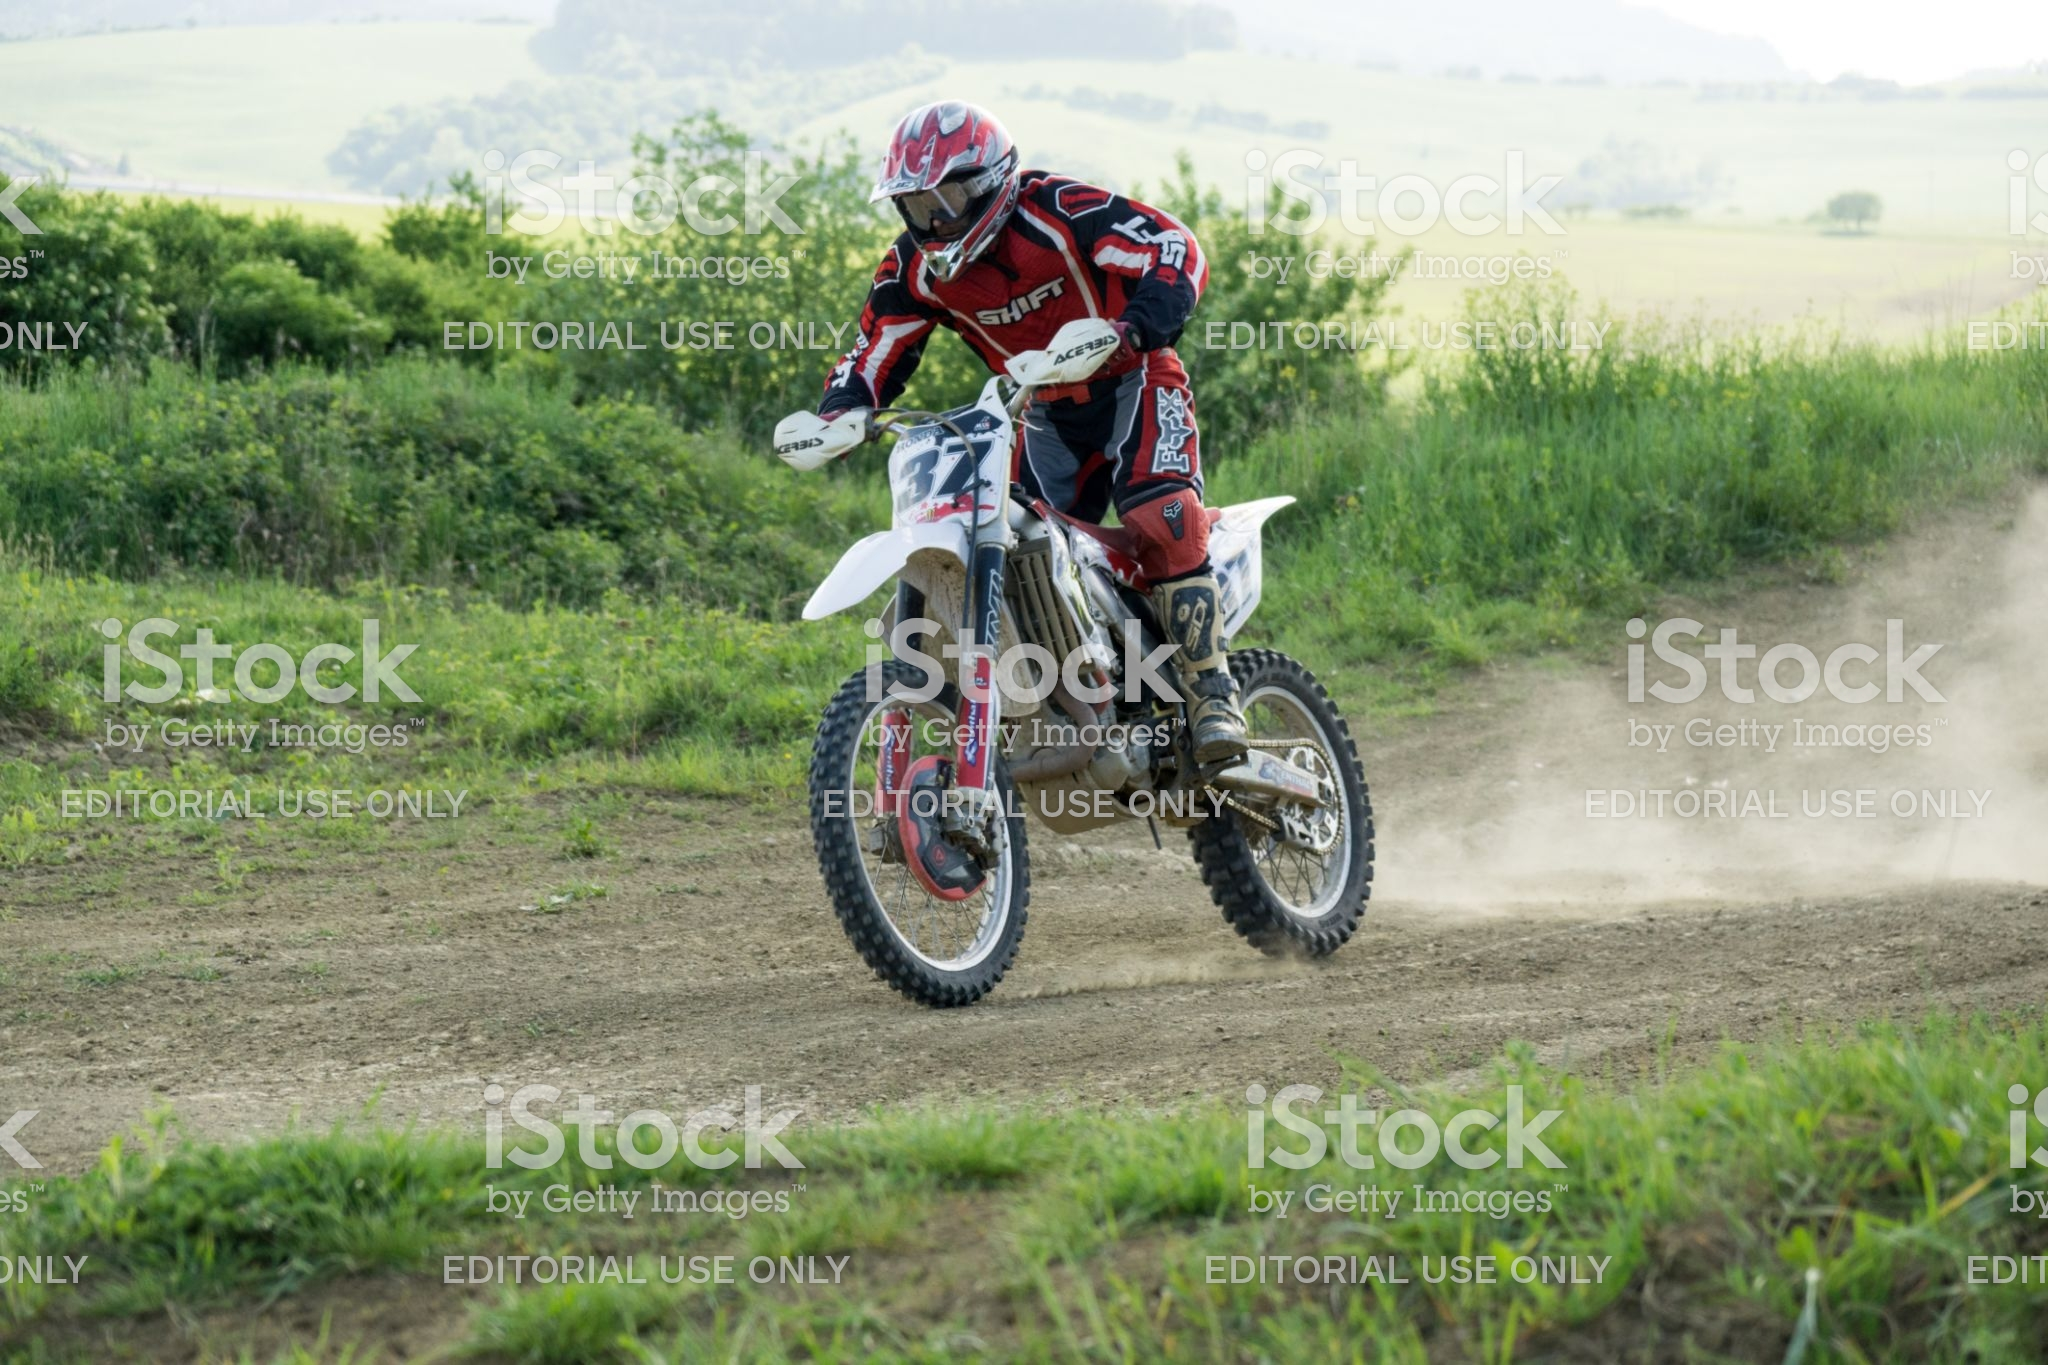helmet: (876, 104, 1026, 270)
